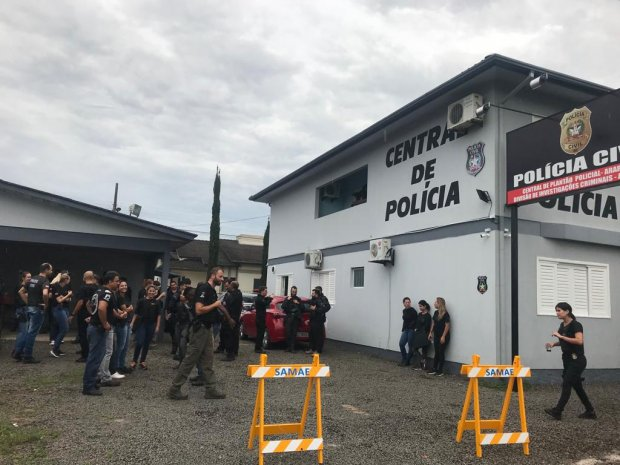Humano: (544, 301, 598, 426), (190, 266, 228, 400), (97, 273, 118, 396), (223, 279, 244, 362), (53, 269, 71, 362), (430, 296, 451, 373), (139, 285, 161, 354), (32, 259, 53, 327), (307, 286, 327, 357), (284, 282, 301, 353), (254, 286, 271, 357), (116, 273, 128, 373), (19, 269, 31, 363), (401, 294, 415, 370), (79, 269, 97, 327), (174, 286, 187, 356), (416, 299, 427, 374)
